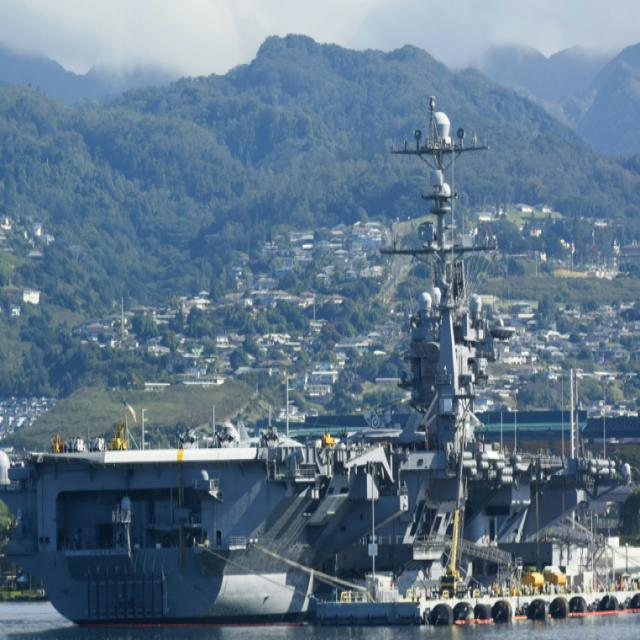Portanaves: (2, 91, 640, 640)
